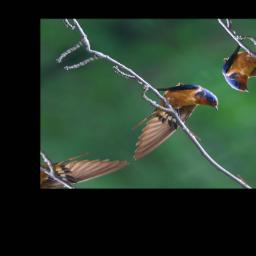Swallow: (91, 67, 233, 162)
